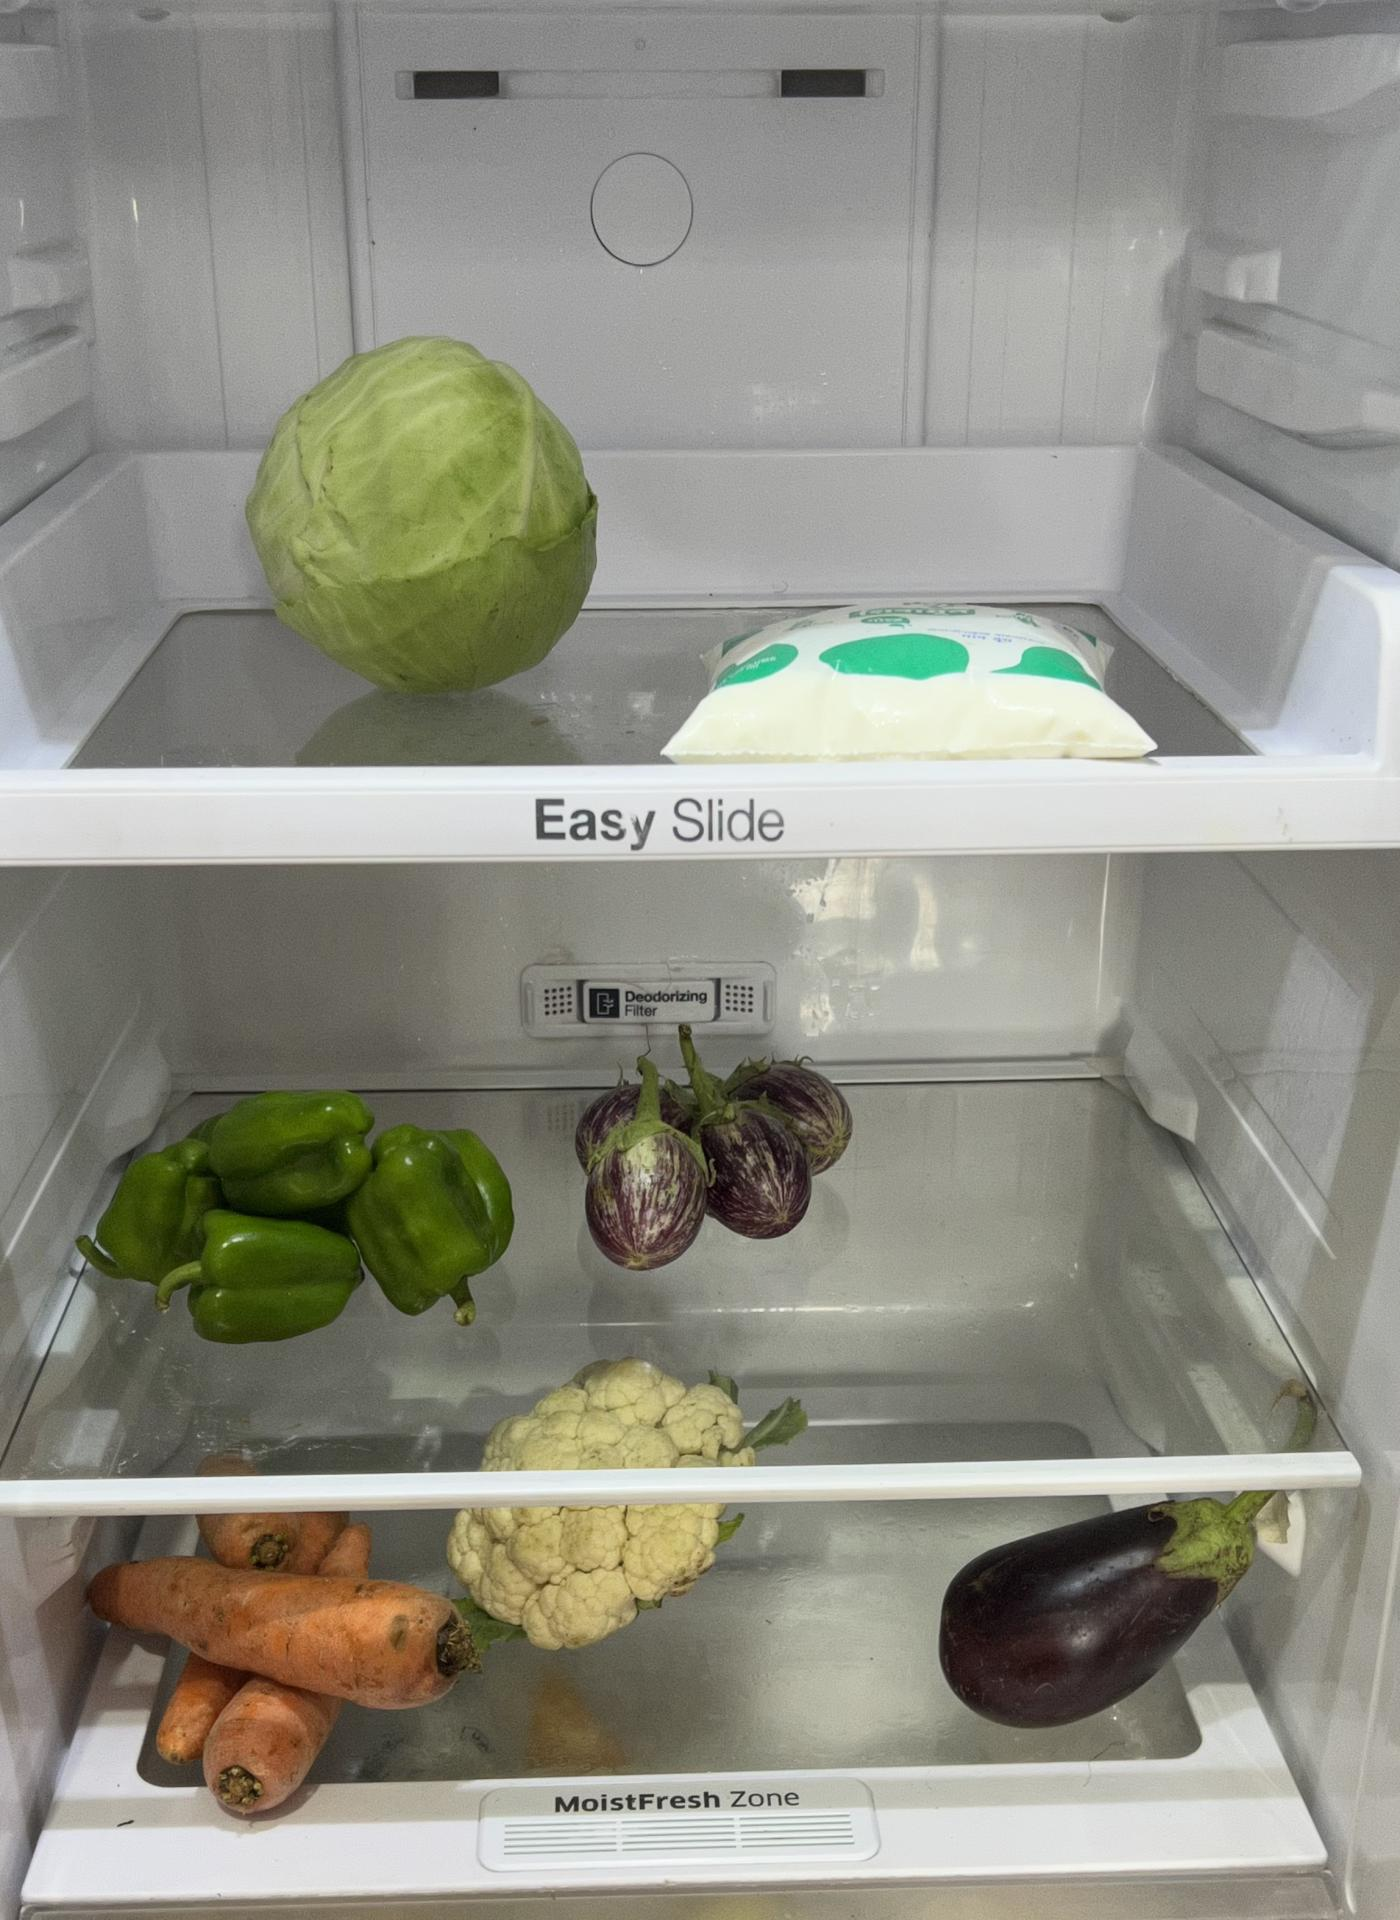cabbage: (242, 331, 602, 695)
capsicum: (83, 1091, 522, 1343)
carrots: (83, 1500, 474, 1820)
cauliflower: (449, 1357, 747, 1649)
milk: (675, 601, 1157, 763)
